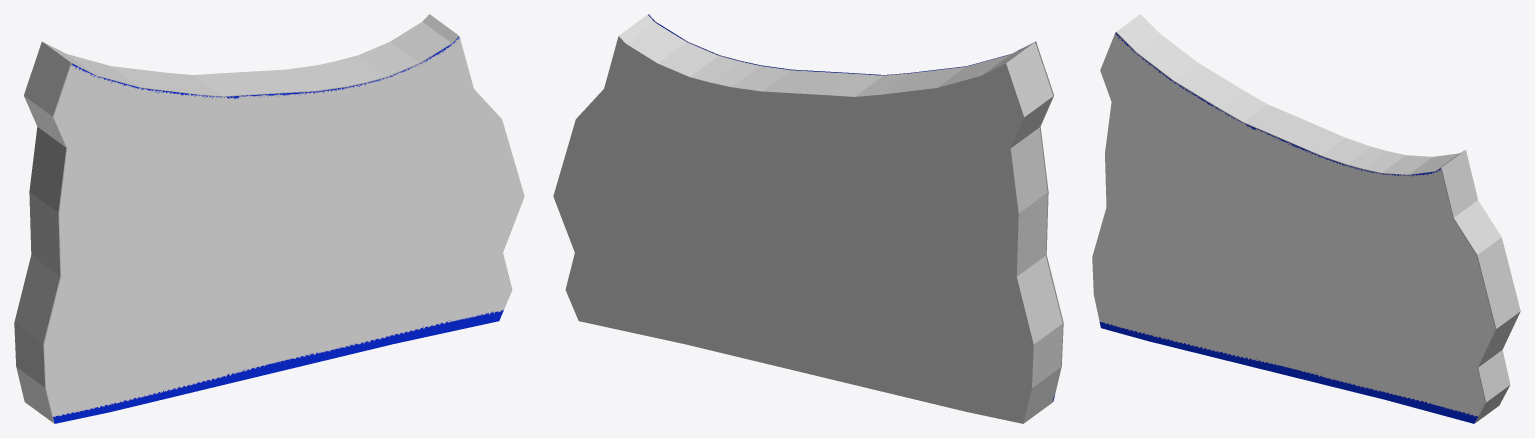
The picture shows the model from 3 angles, left to right: view 1: azimuth 30°, elevation 25°; view 2: azimuth 150°, elevation 25°; view 3: azimuth 330°, elevation 25°; orthographic projection. The views are drawn at different scales.
Visible parts, largest first — view 1: Out_2_1, Out_2_0; view 2: Out_2_0, Out_2_1; view 3: Out_2_1, Out_2_0.
Part boxes in pixels (x1,y1,x2,y2): Out_2_1: [44, 36, 524, 423]; Out_2_0: [14, 14, 458, 423]; Out_2_0: [553, 15, 1062, 423]; Out_2_1: [648, 14, 1063, 401]; Out_2_1: [1092, 32, 1495, 423]; Out_2_0: [1116, 14, 1520, 422].
Size of the model in its own units: 4.77 by 3.44 by 0.515.
2 materials, 1 textured.
